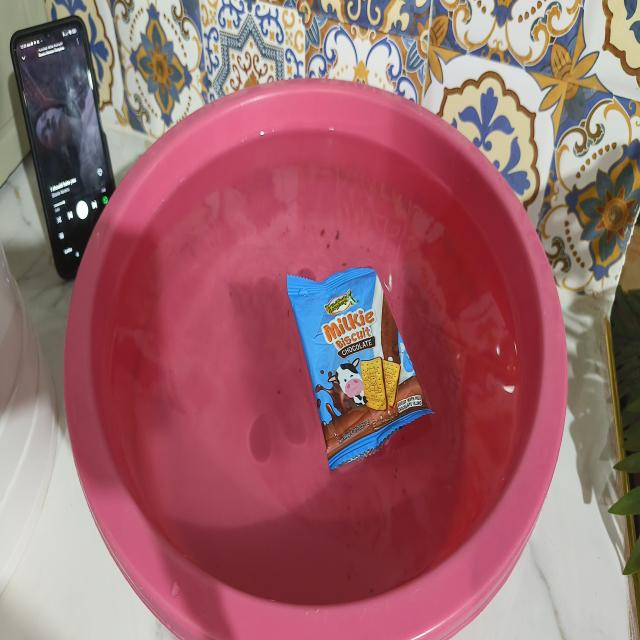Plastic Wrapper: (287, 268, 432, 470)
